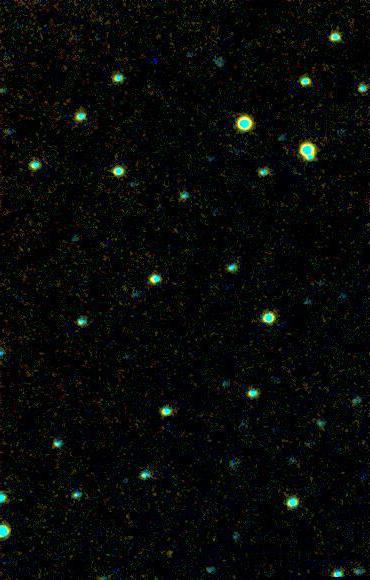star: (155, 539, 185, 569)
